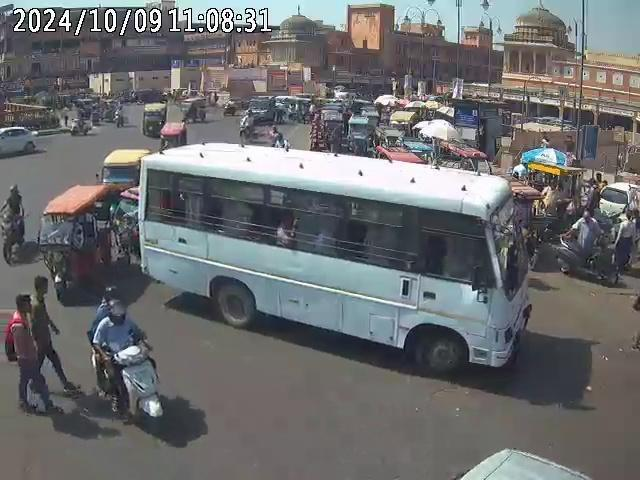auto: (39, 182, 136, 302), (96, 148, 153, 193), (313, 105, 350, 140), (141, 103, 168, 136), (182, 96, 206, 122)
bus: (139, 142, 534, 374)
car: (596, 180, 637, 227), (0, 126, 39, 159)
helmet: (106, 300, 130, 328), (104, 284, 125, 304)
motorbike-rider: (0, 182, 27, 266)
person: (5, 281, 64, 414), (610, 210, 638, 283), (568, 208, 600, 270), (274, 208, 298, 248)
scooty-rider: (87, 292, 167, 427)
